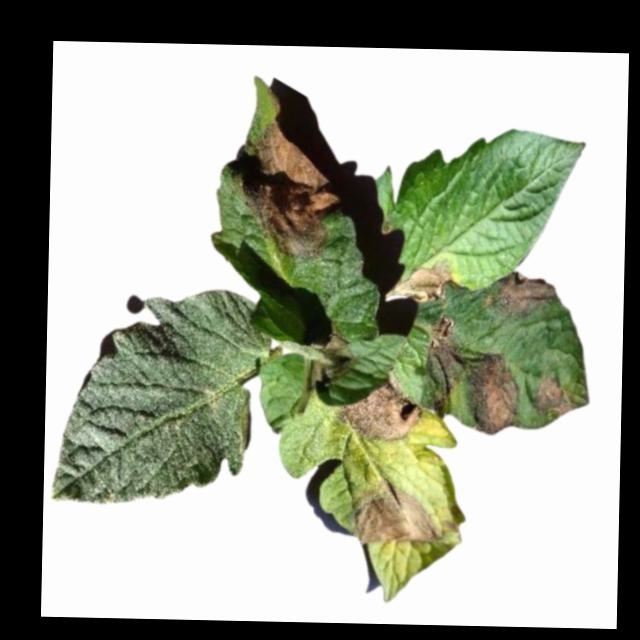Late_blight: (230, 116, 346, 262), (345, 479, 438, 548), (334, 372, 421, 443), (462, 349, 521, 437), (416, 311, 465, 415), (482, 271, 557, 321), (396, 259, 458, 301), (317, 324, 355, 384), (528, 372, 573, 419)
healthy: (51, 285, 272, 507)
